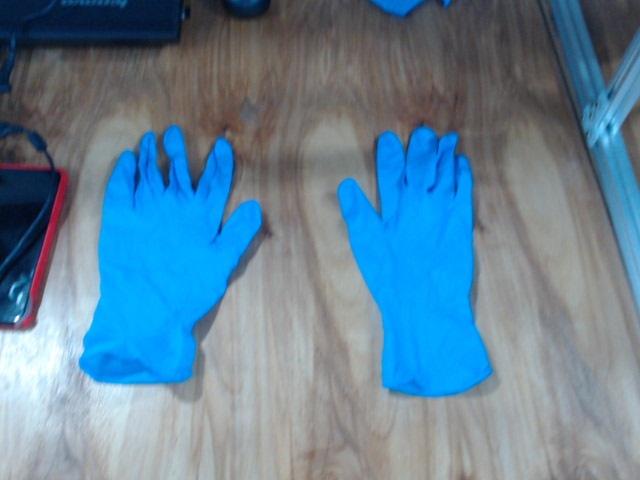medical_glove: (80, 126, 262, 382), (338, 127, 498, 396)
